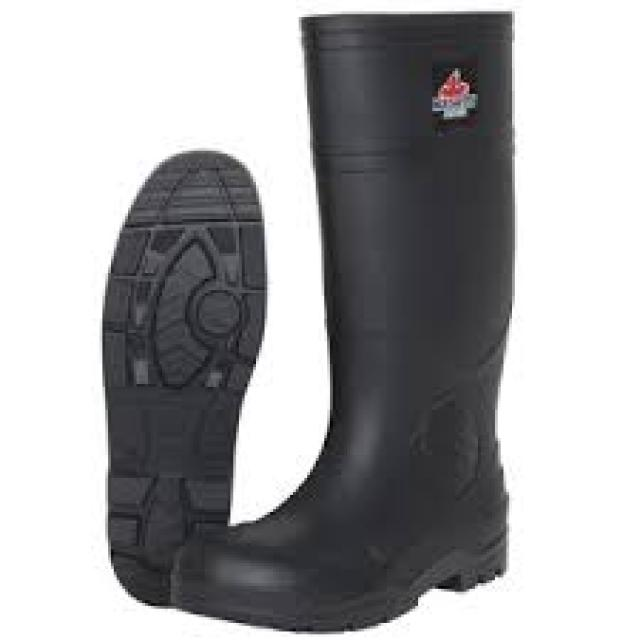shoes: (102, 12, 514, 629)
